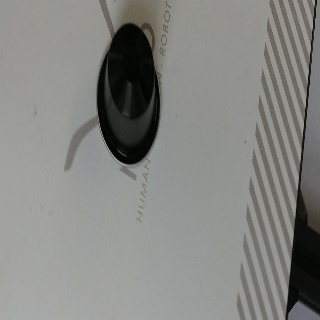capsule_10: (95, 21, 161, 168)
